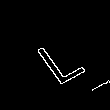L_NW: (25, 25, 85, 85)
